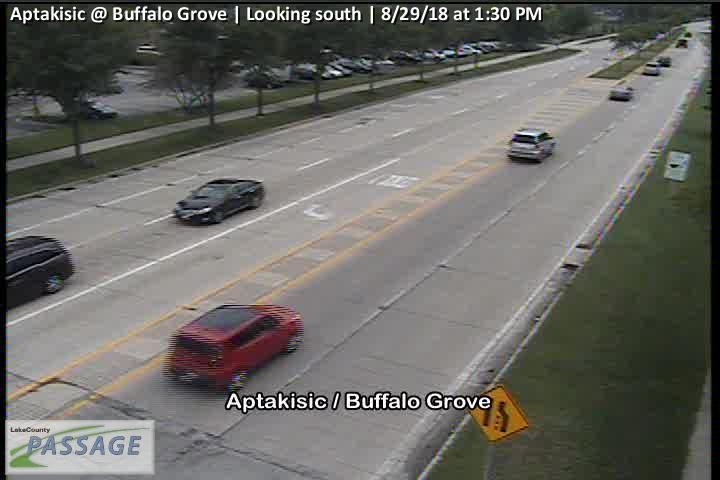SUV: (166, 302, 303, 394), (5, 237, 75, 313), (508, 129, 555, 164)
Sedan: (175, 177, 264, 223), (609, 85, 633, 100), (643, 62, 658, 75), (657, 55, 673, 64)
